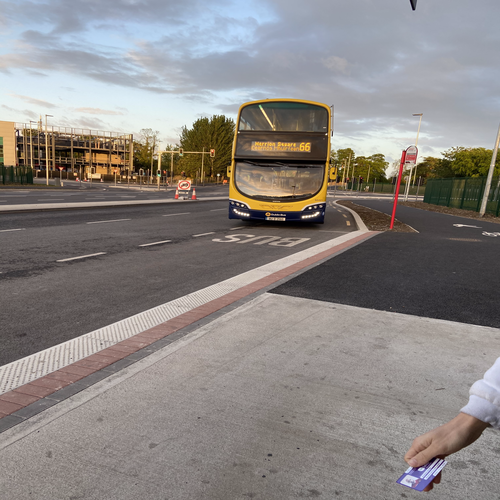Bus: (226, 100, 335, 228)
